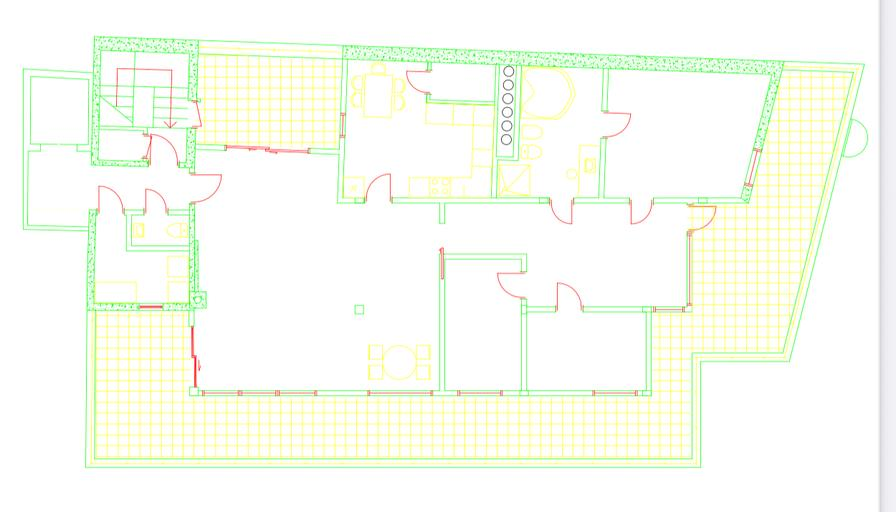room: (603, 66, 779, 200), (343, 60, 495, 197), (497, 66, 603, 197), (443, 257, 523, 392), (526, 309, 649, 392), (90, 211, 196, 307), (28, 75, 90, 146), (99, 126, 191, 164), (427, 62, 497, 104), (132, 214, 189, 247)
